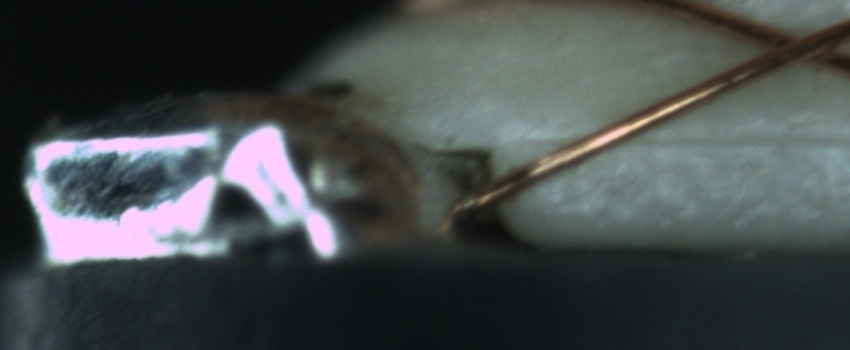CL: (748, 15, 843, 74)
DL: (538, 108, 850, 172)
